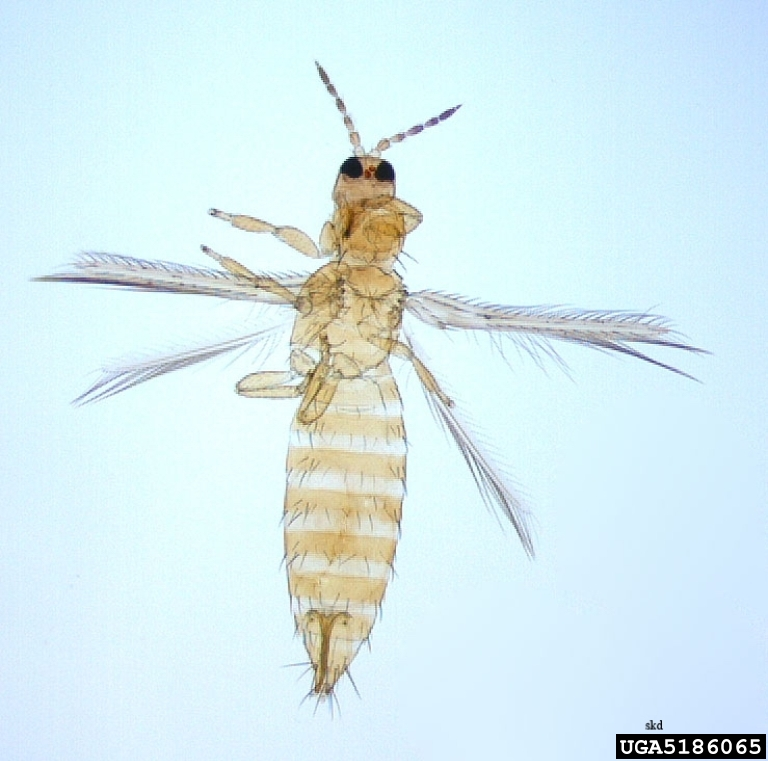Thrips: (69, 54, 545, 709)
